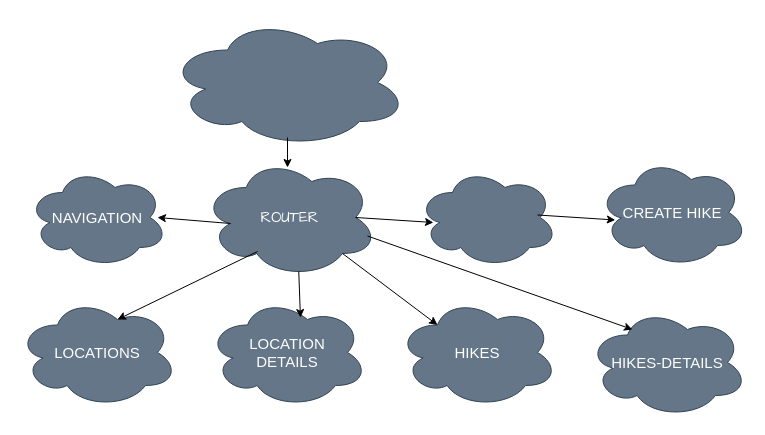
This 765x435 diagram has some shape labels left out. The shapes that lost their labels are listed below. From the top down, each one's centre as x and y in pixels, then its label:
(287,82): APP
(487,217): FORM
